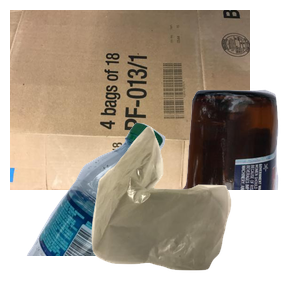cardboard: (10, 10, 250, 190)
glass: (87, 87, 300, 267)
plastic: (24, 120, 182, 300)
trash: (89, 124, 300, 300)
